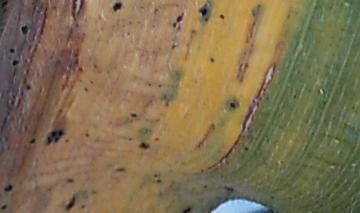tarspot: (48, 129, 63, 144), (67, 195, 77, 210), (19, 24, 30, 35), (198, 4, 207, 17), (227, 100, 237, 110), (113, 1, 122, 12), (139, 141, 149, 150), (225, 184, 234, 193), (114, 166, 125, 173), (23, 83, 32, 91), (176, 13, 184, 22), (12, 59, 20, 67), (170, 41, 177, 50), (182, 207, 192, 213), (5, 184, 13, 191), (218, 12, 225, 20), (66, 178, 74, 184), (203, 183, 209, 191), (131, 112, 138, 118), (84, 131, 90, 138), (156, 178, 162, 185), (29, 138, 37, 143), (10, 47, 16, 53), (1, 204, 7, 210), (80, 203, 86, 209), (209, 58, 216, 63), (79, 66, 84, 73), (152, 173, 159, 178), (155, 136, 160, 143), (245, 145, 249, 153), (157, 83, 162, 89), (128, 136, 133, 142), (204, 17, 209, 23), (76, 58, 80, 65), (148, 83, 153, 88), (171, 24, 177, 28), (85, 88, 88, 92)
